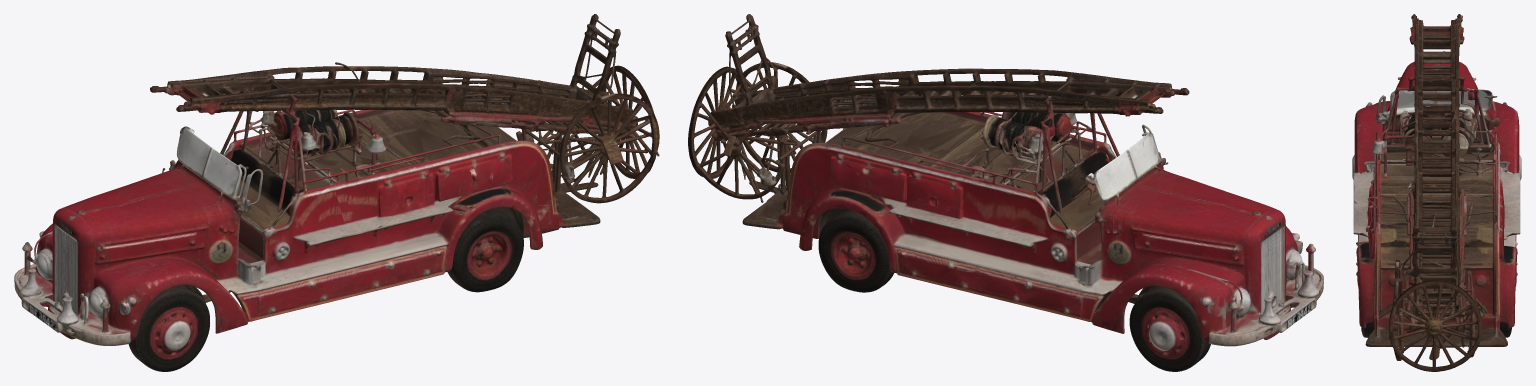
The model's file is historic_fire_engine_vintage_cars.glb.
3 renders of one model, left to right at view 1: azimuth 30°, elevation 25°; view 2: azimuth 150°, elevation 25°; view 3: azimuth 270°, elevation 25°, orthographic. The views are drawn at different scales.
Visible parts, largest first — view 1: Meshy_AI_Vintage_Red_Fire_Engi_0813174928_texture; view 2: Meshy_AI_Vintage_Red_Fire_Engi_0813174928_texture; view 3: Meshy_AI_Vintage_Red_Fire_Engi_0813174928_texture.
Boxes of the visible parts, x1,y1,x2,y2 form: Meshy_AI_Vintage_Red_Fire_Engi_0813174928_texture: [14, 14, 659, 371]; Meshy_AI_Vintage_Red_Fire_Engi_0813174928_texture: [688, 14, 1323, 371]; Meshy_AI_Vintage_Red_Fire_Engi_0813174928_texture: [1352, 14, 1521, 371].
Bounding box in the file's own units: 1.9 × 0.7223 × 0.5424.
1 material, 1 textured.
